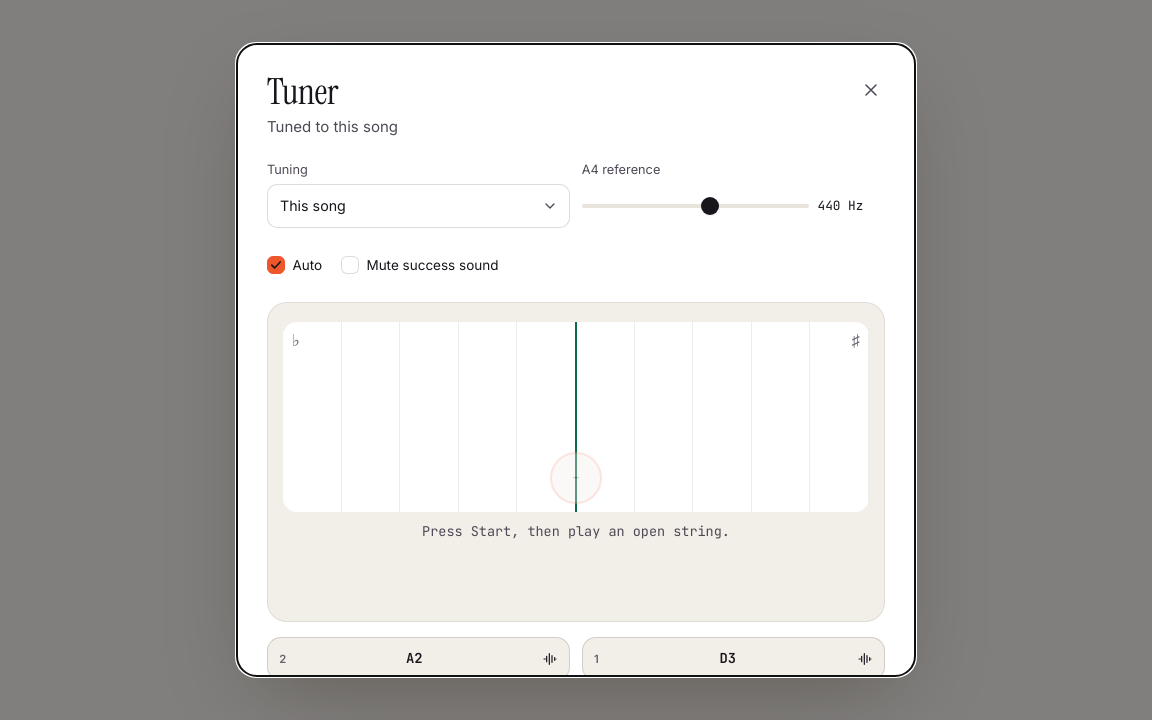
Test: TunerSheet › stays quiet when muted, and says when every string is in tune
The image size is (1152, 720).
Click the checkbox with test id "tuner-mute": (350, 265) top-left (341, 256), bottom-right (359, 274)
(page scrolled)
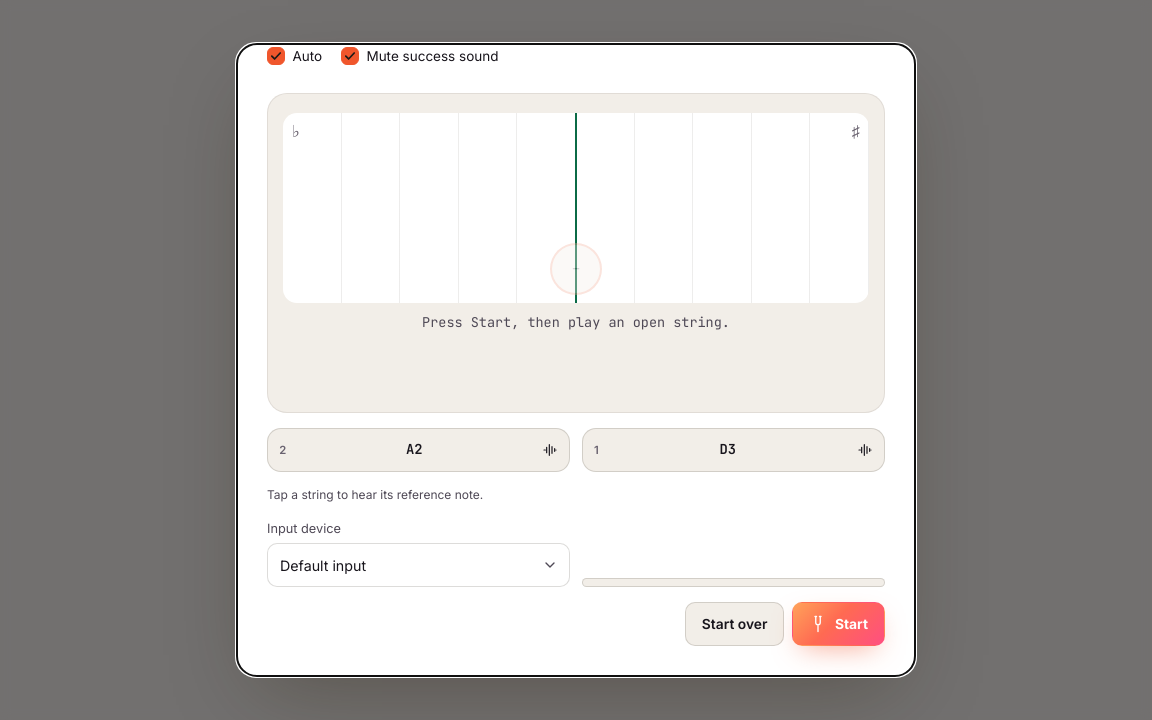
Click the button with test id "tuner-start": (838, 624) top-left (792, 602), bottom-right (885, 646)
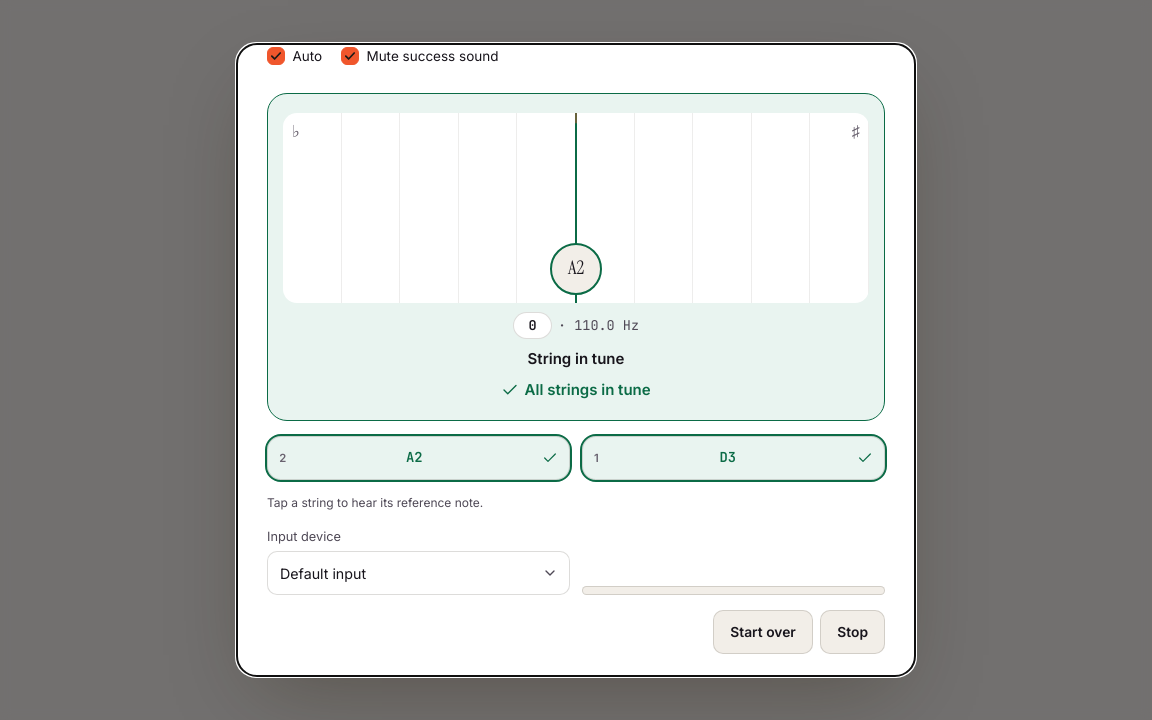
Expected: the text with test id "tuner-all-tuned" reads "All strings in tune", top-left (525, 380), bottom-right (651, 399)
Click the button with test id "tuner-restart": (763, 632) top-left (713, 610), bottom-right (813, 654)
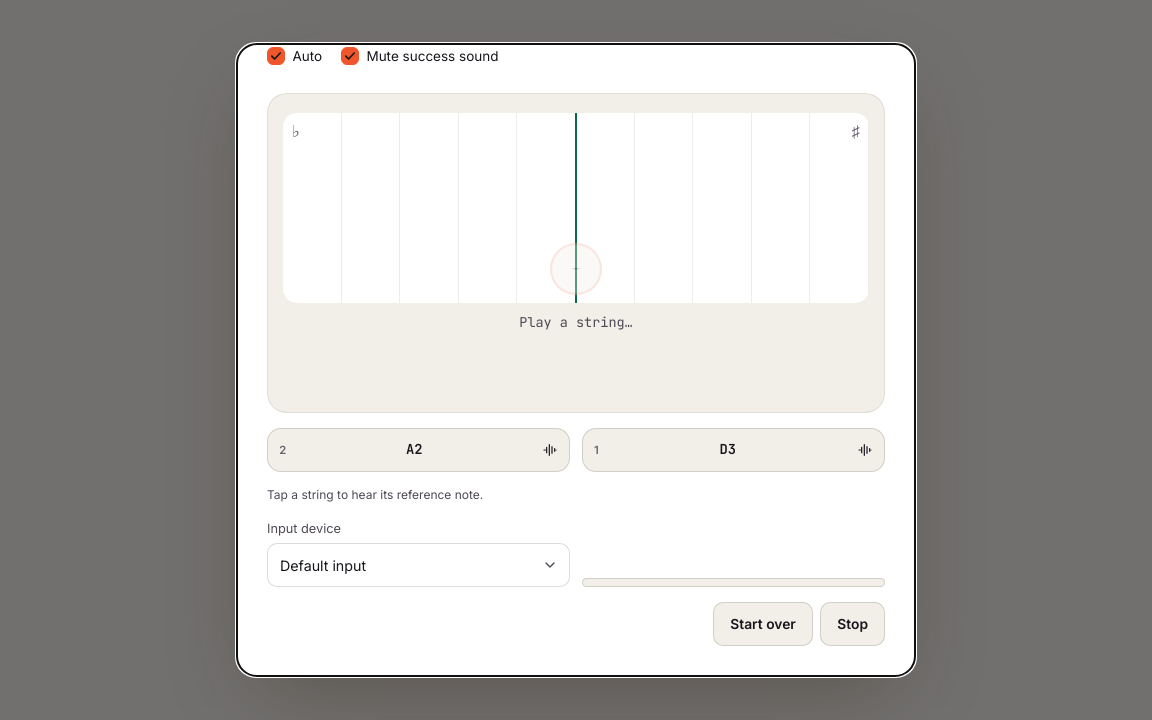
Expected: the text with test id "tuner-all-tuned" is gone
